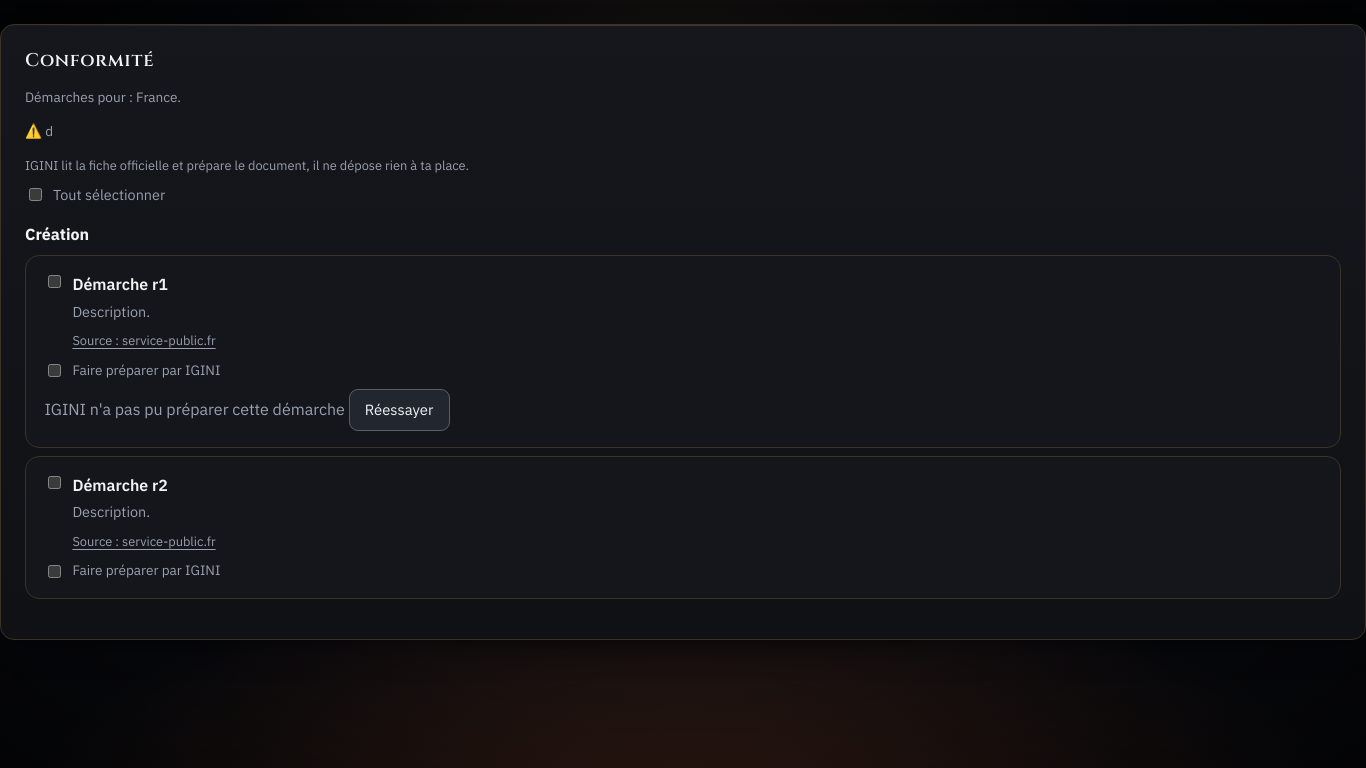
Test: ComplianceSection — IGINI prépare les démarches › une démarche en échec propose « Réessayer »
Check: the text "IGINI n'a pas pu préparer cette démarche" is shown, box [44,399,345,419]
Click the button "Réessayer".
click(399, 410)  # box [349,389,450,431]
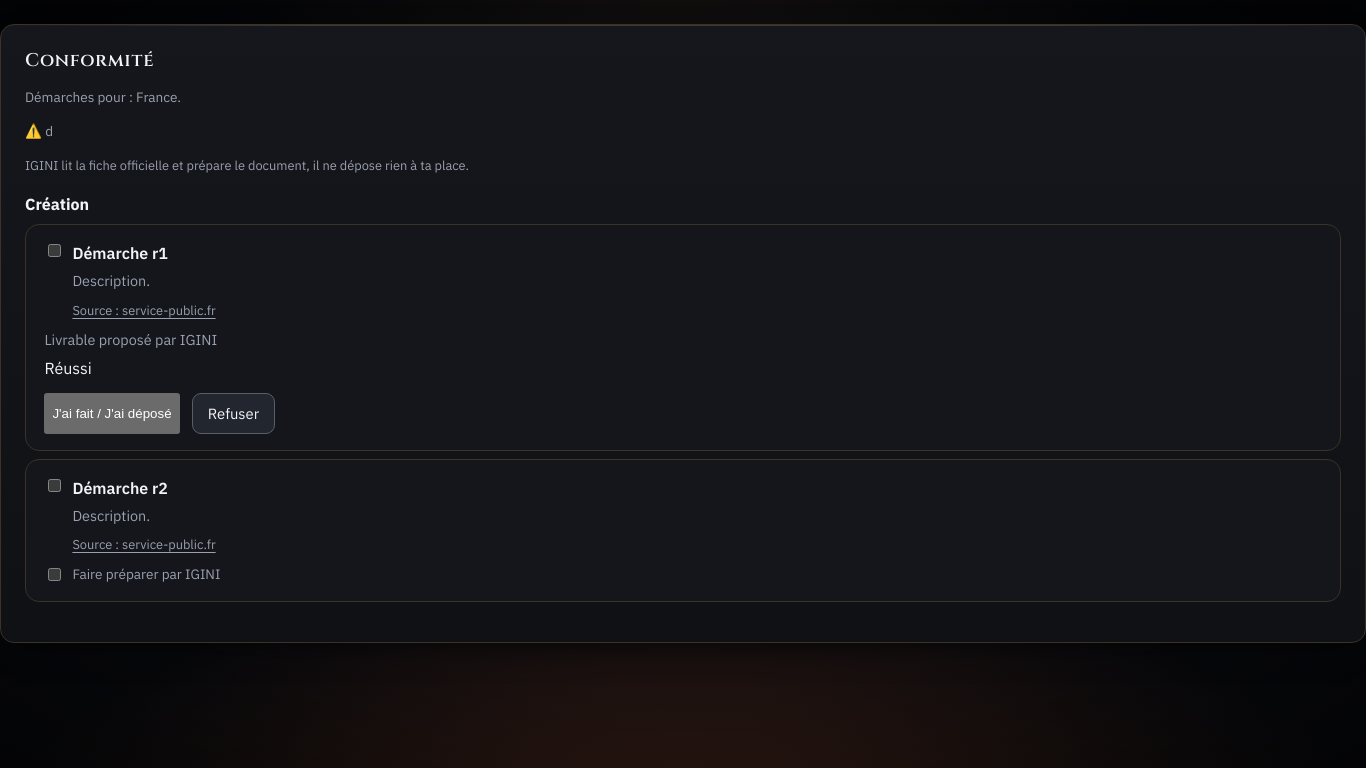
Check: the text "Réussi" is shown, box [44,358,92,378]
